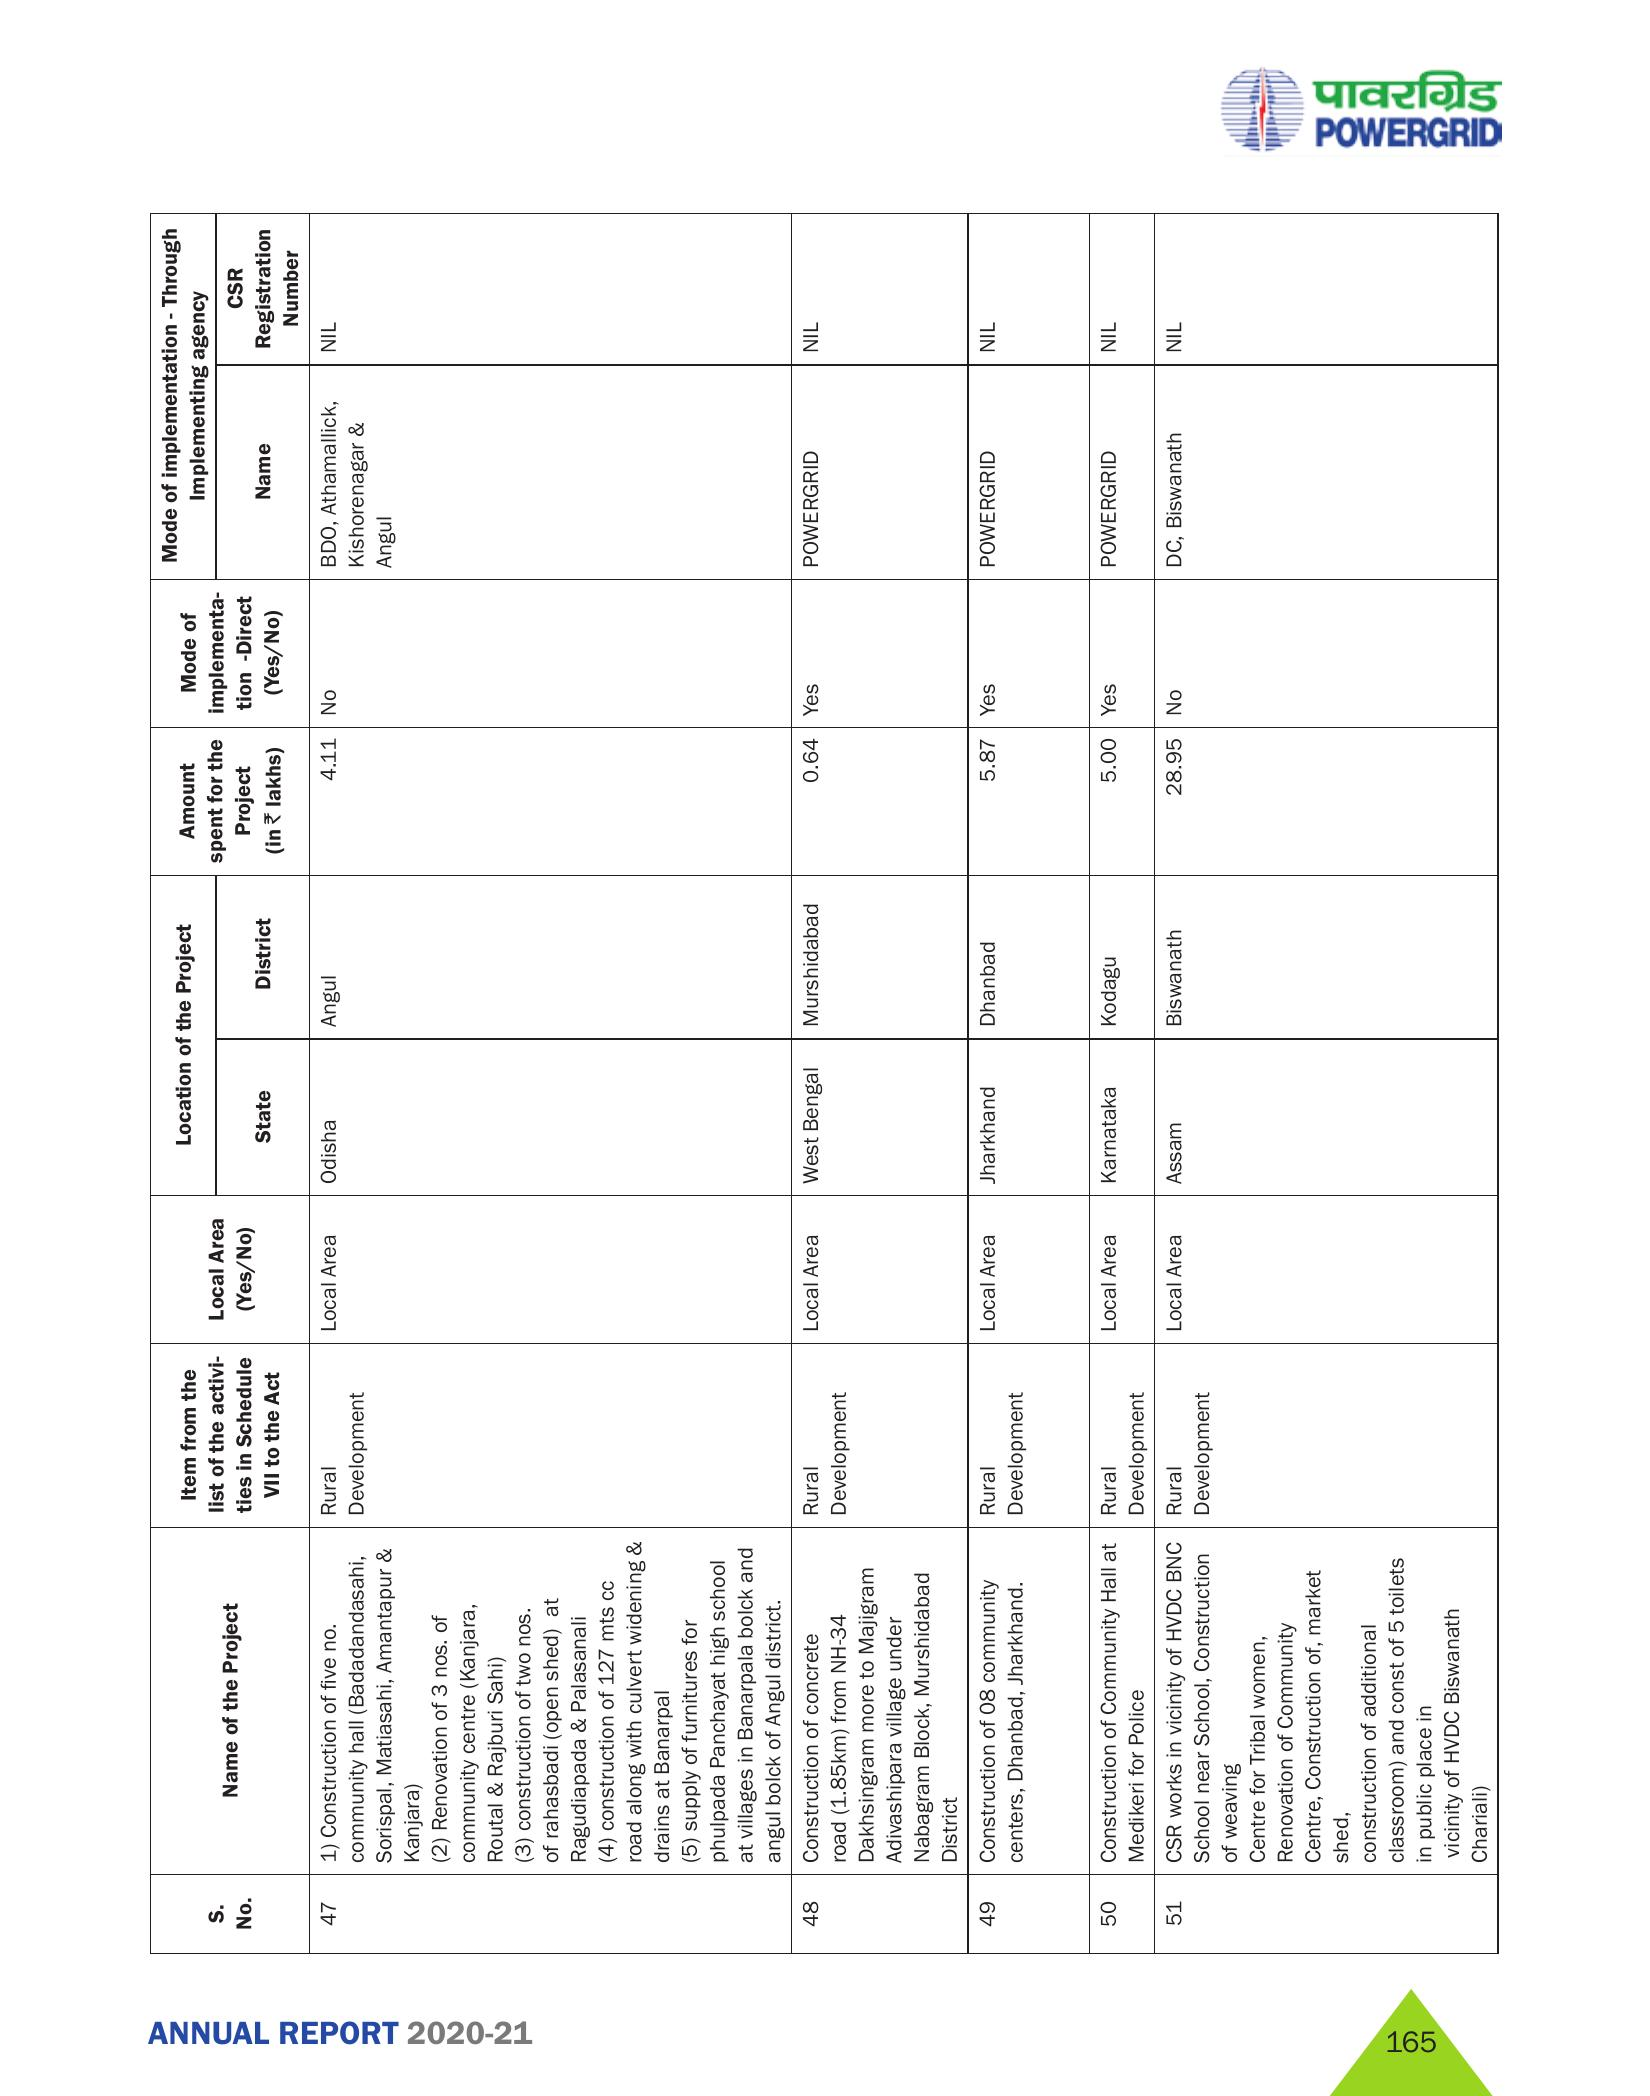Footer: (0, 1968, 1650, 2096)
Header: (0, 0, 1650, 189)
Table: (114, 208, 1536, 1991)
